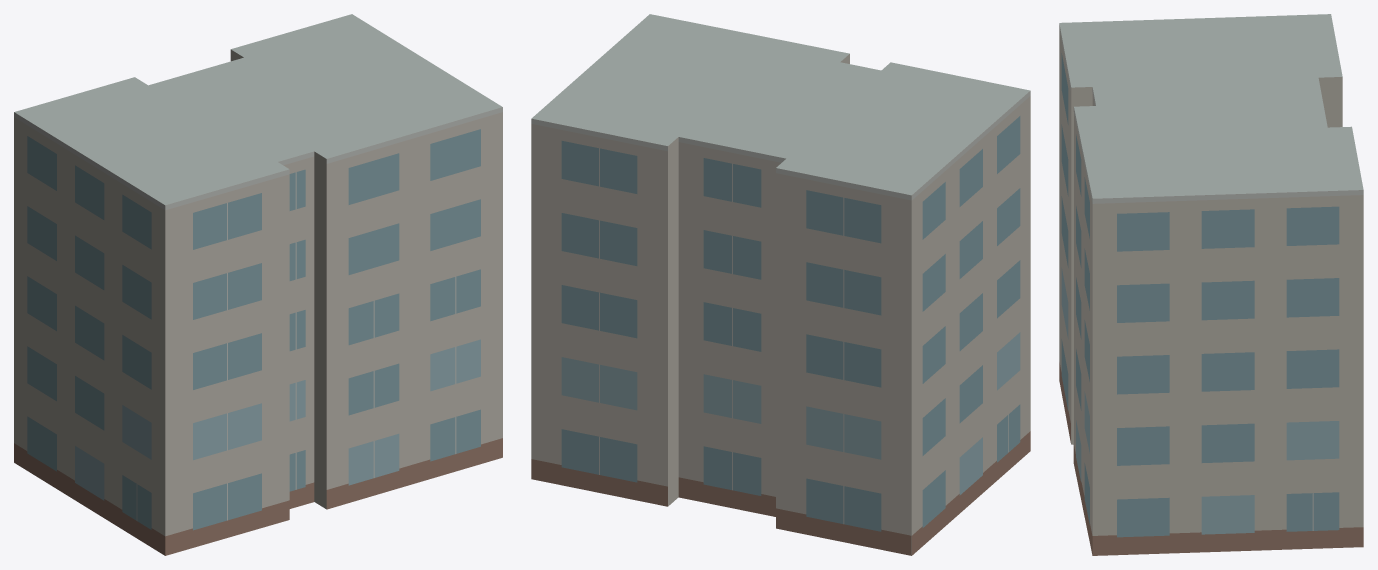
Rendered from survey-upis-32963757.glb.
3 renders of one model, left to right at view 1: azimuth 30°, elevation 25°; view 2: azimuth 150°, elevation 25°; view 3: azimuth 270°, elevation 25°, orthographic. The views are drawn at different scales.
Parts seen in each view (by area): view 1: survey-upis-32963757.tmp; view 2: survey-upis-32963757.tmp; view 3: survey-upis-32963757.tmp.
Part boxes in pixels (bbox=[...]): survey-upis-32963757.tmp: bbox=[14, 14, 502, 555]; survey-upis-32963757.tmp: bbox=[531, 14, 1030, 555]; survey-upis-32963757.tmp: bbox=[1059, 14, 1363, 555].
Bounding box in the file's own units: 18.99 × 17.1 × 13.22.
